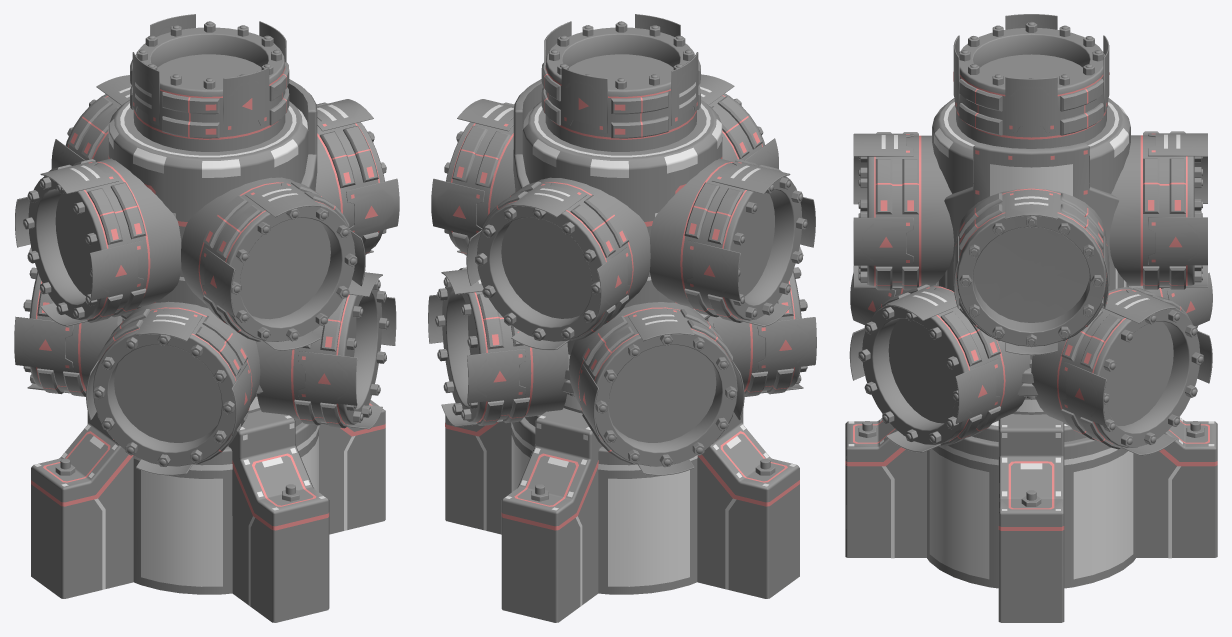
Rendered from FrackerExtractor_extend3.fbx.
3 renders of one model, left to right at view 1: azimuth 30°, elevation 25°; view 2: azimuth 150°, elevation 25°; view 3: azimuth 270°, elevation 25°, orthographic.
Parts seen in each view (by area): view 1: SM_FrackerExtractor_01; view 2: SM_FrackerExtractor_01; view 3: SM_FrackerExtractor_01.
Part boxes in pixels (x1,y1,x2,y2): SM_FrackerExtractor_01: [14, 14, 399, 622]; SM_FrackerExtractor_01: [428, 14, 816, 622]; SM_FrackerExtractor_01: [845, 14, 1217, 622].
Size of the model in its own units: 481 by 710 by 481.
